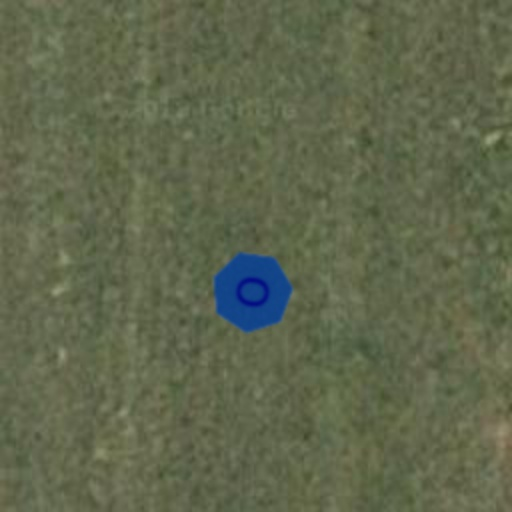heptagon: (204, 244, 300, 340)
